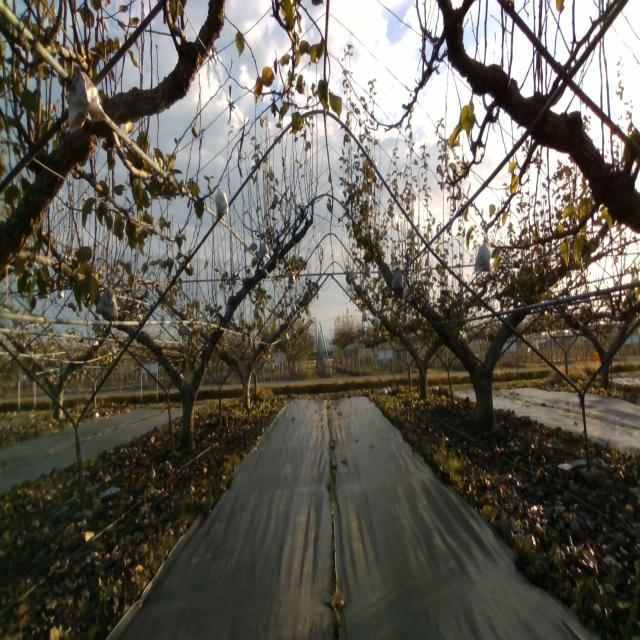pearbags: (68, 65, 108, 133), (472, 236, 491, 272), (215, 184, 230, 220), (391, 267, 404, 293), (258, 236, 270, 262)
